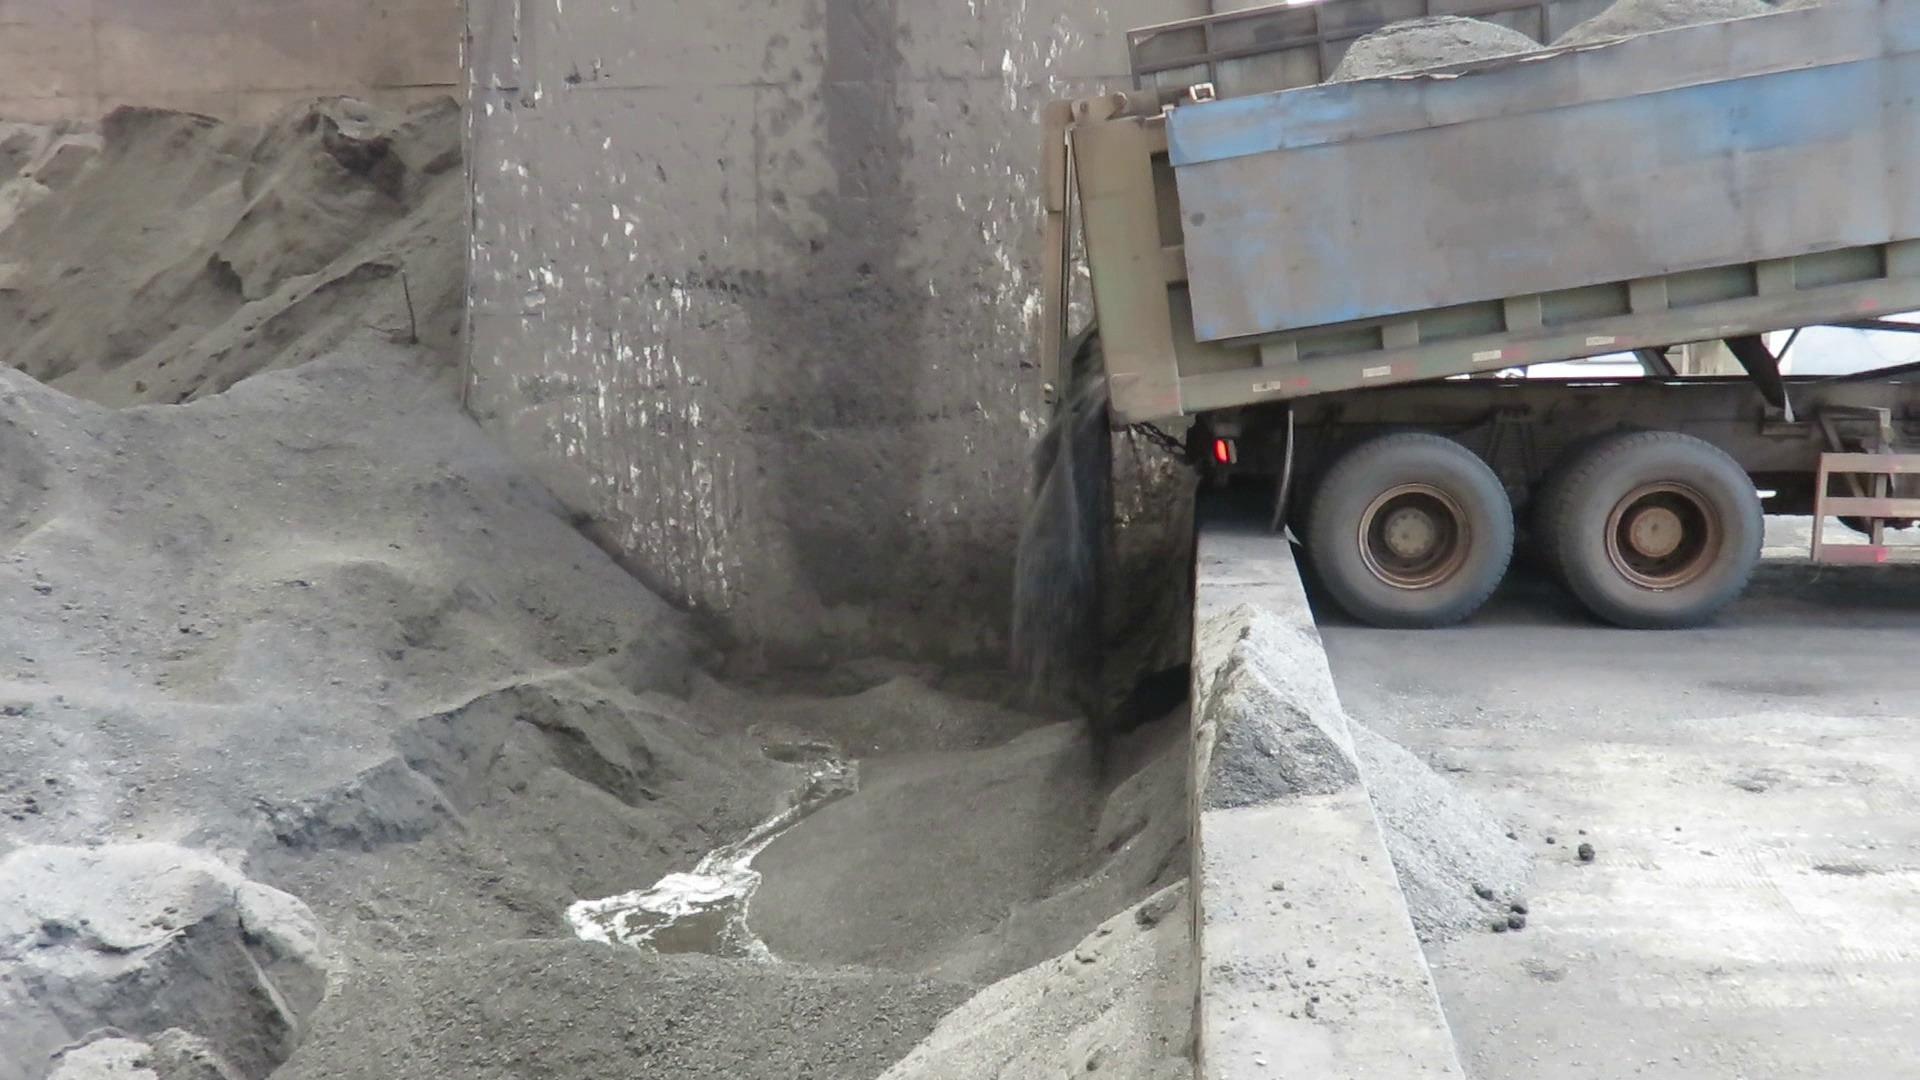truck: (1042, 0, 1920, 632)
